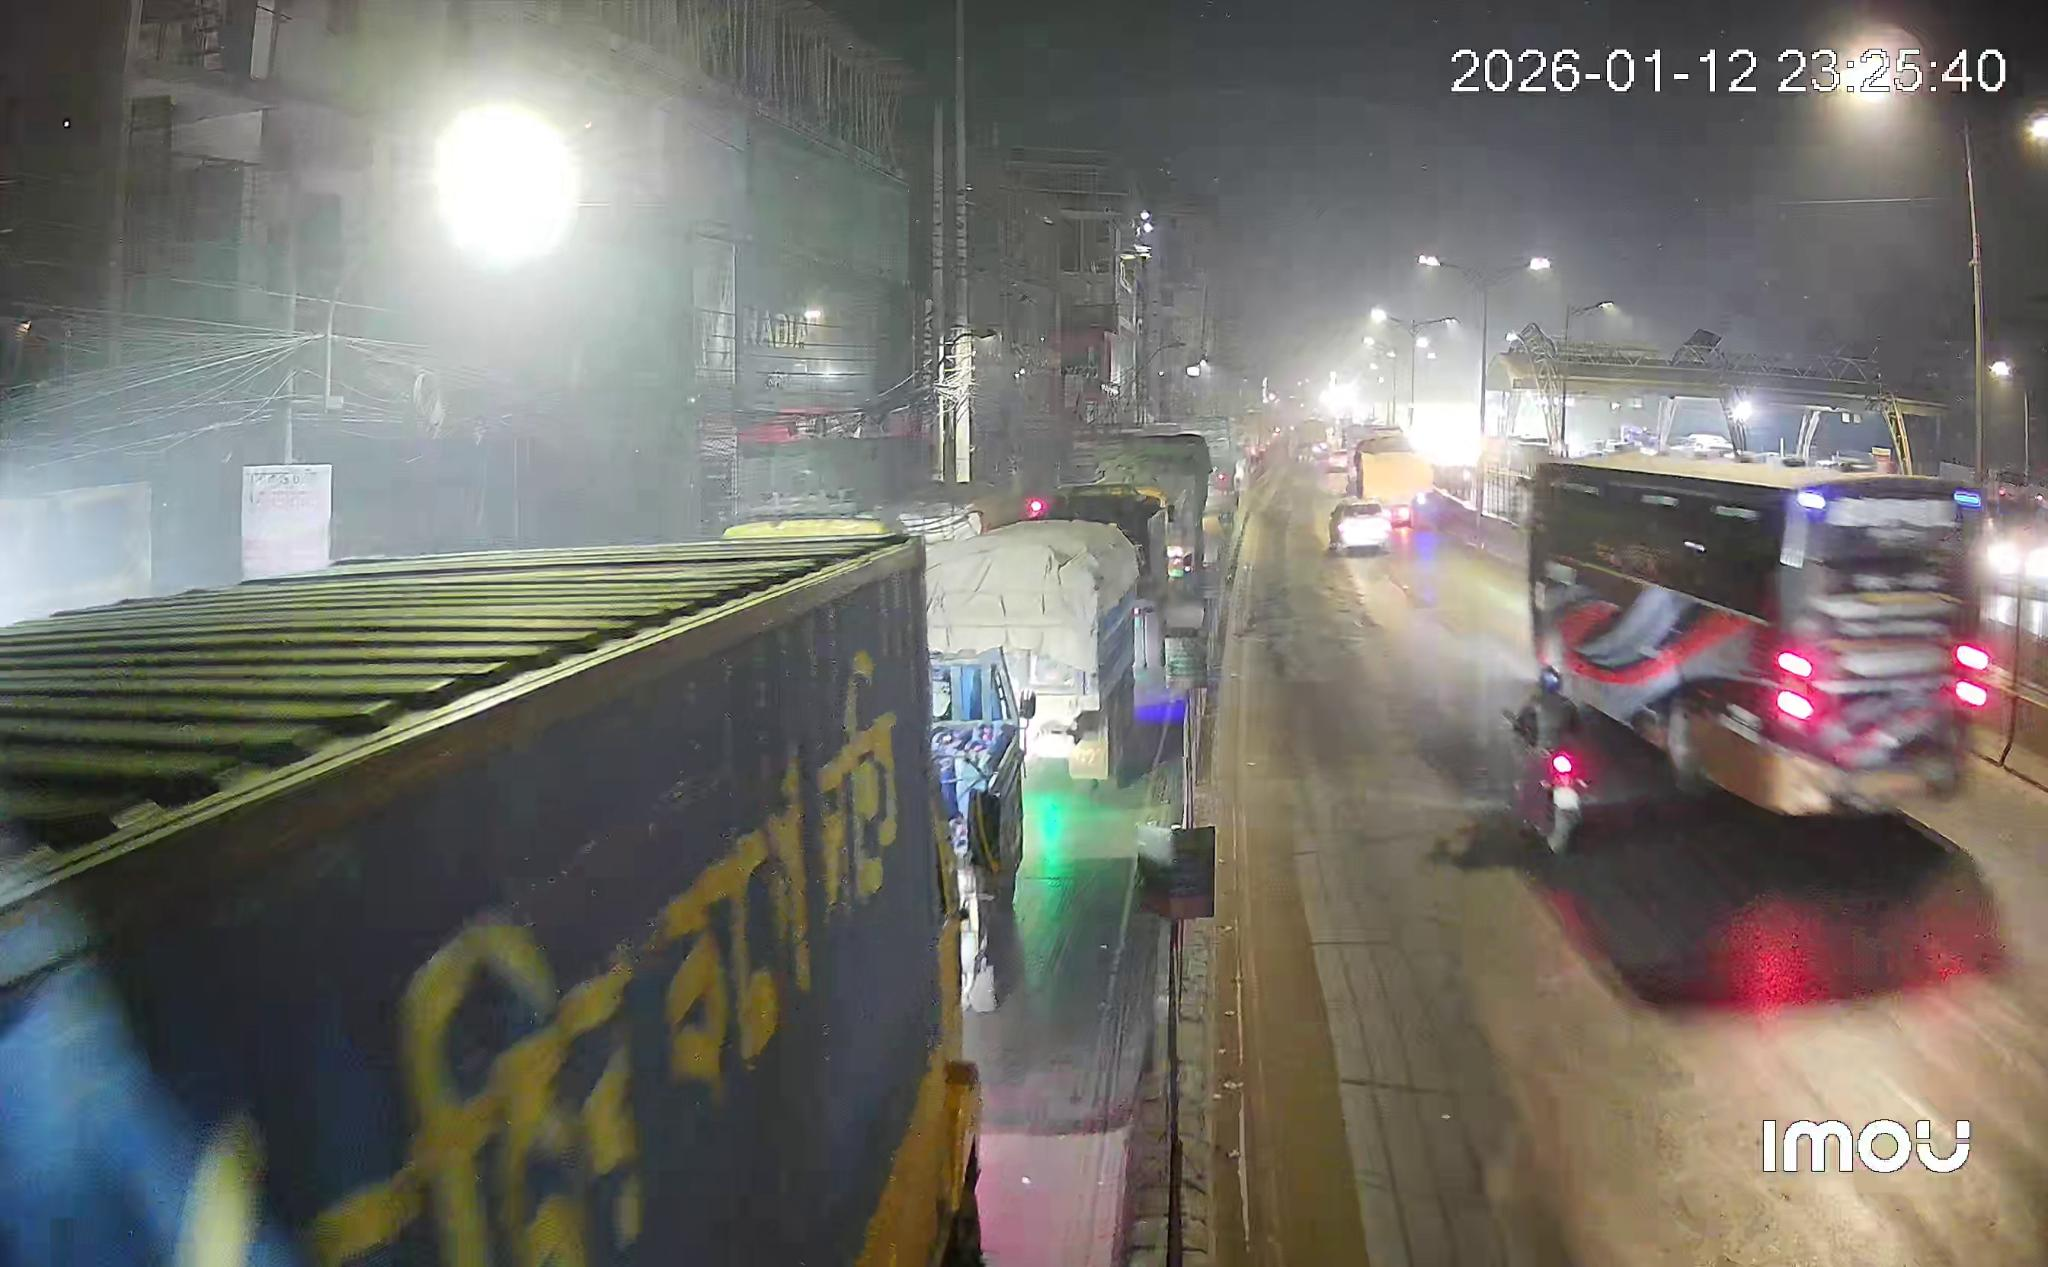Bus: (1526, 452, 1994, 816), (806, 714, 807, 720)
Motorcycle: (1502, 669, 1587, 853)
Private-Sedan Car: (1328, 499, 1394, 552)
Truck: (0, 537, 985, 1267), (926, 486, 1169, 780), (1347, 429, 1434, 527)
